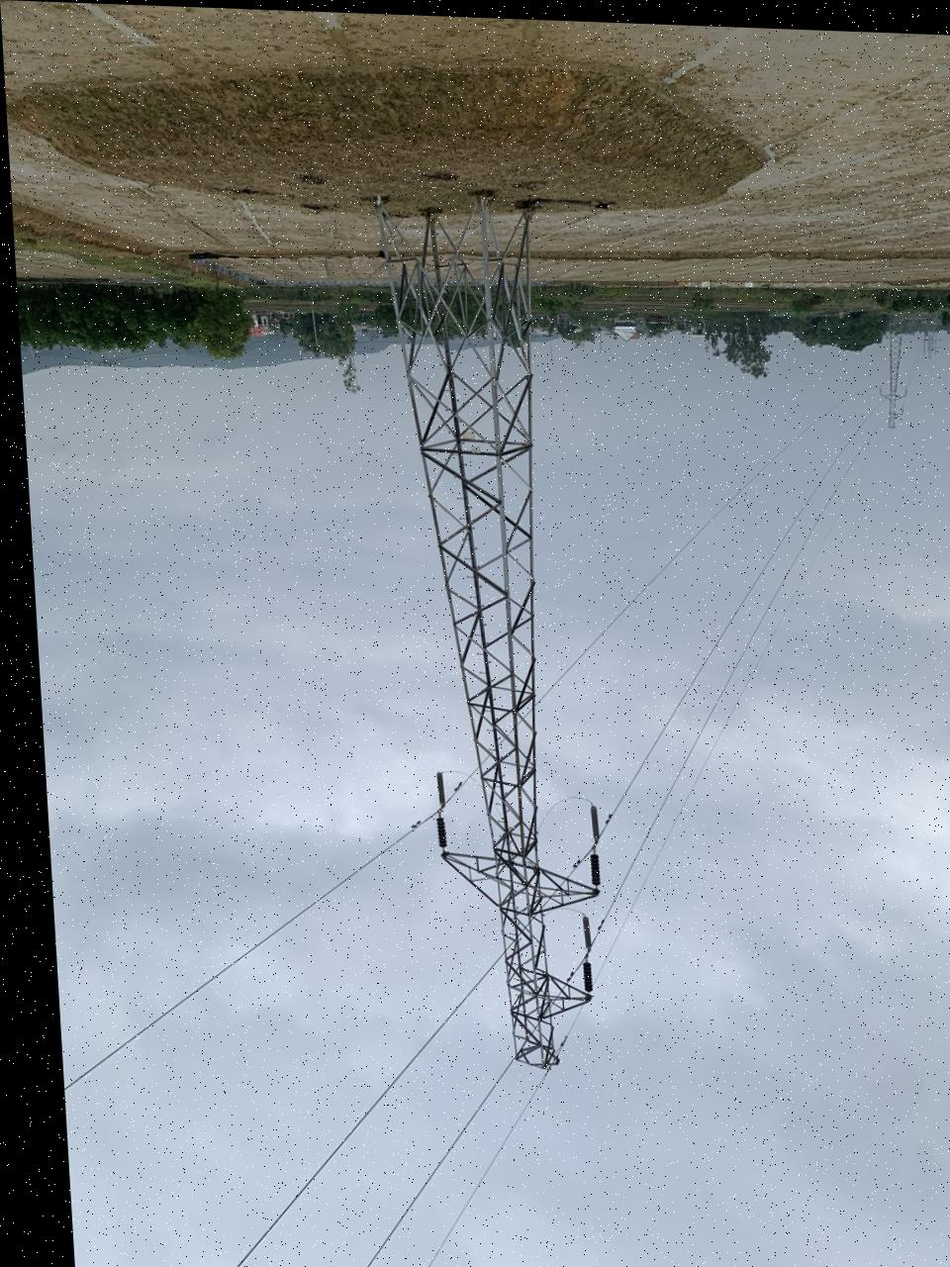tower: (368, 185, 630, 1092)
